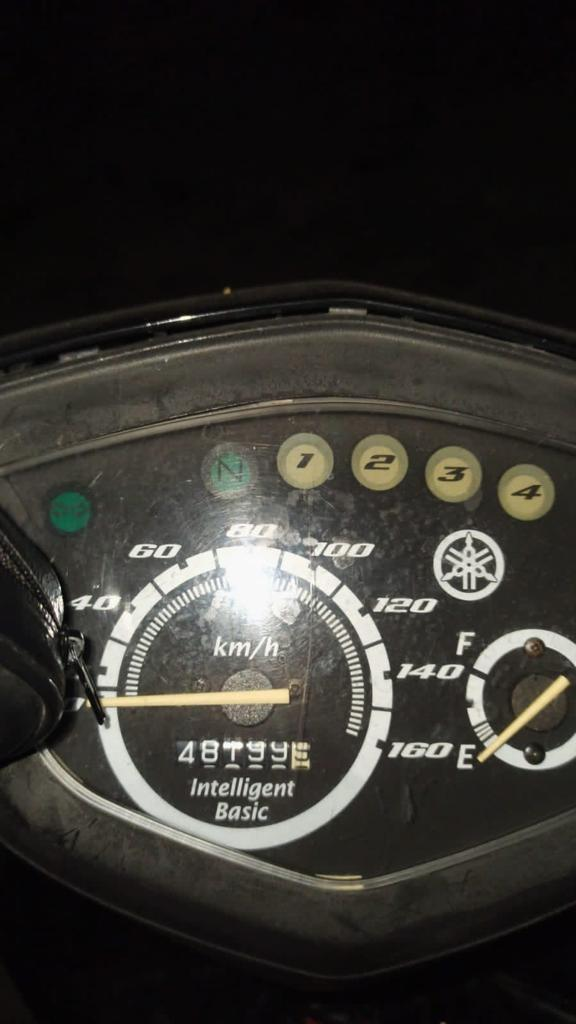1: (230, 742, 236, 761)
4: (177, 739, 195, 764)
8: (200, 739, 219, 762)
9: (270, 739, 288, 762), (247, 739, 264, 762), (294, 738, 310, 760)
odometer: (172, 736, 313, 773)
